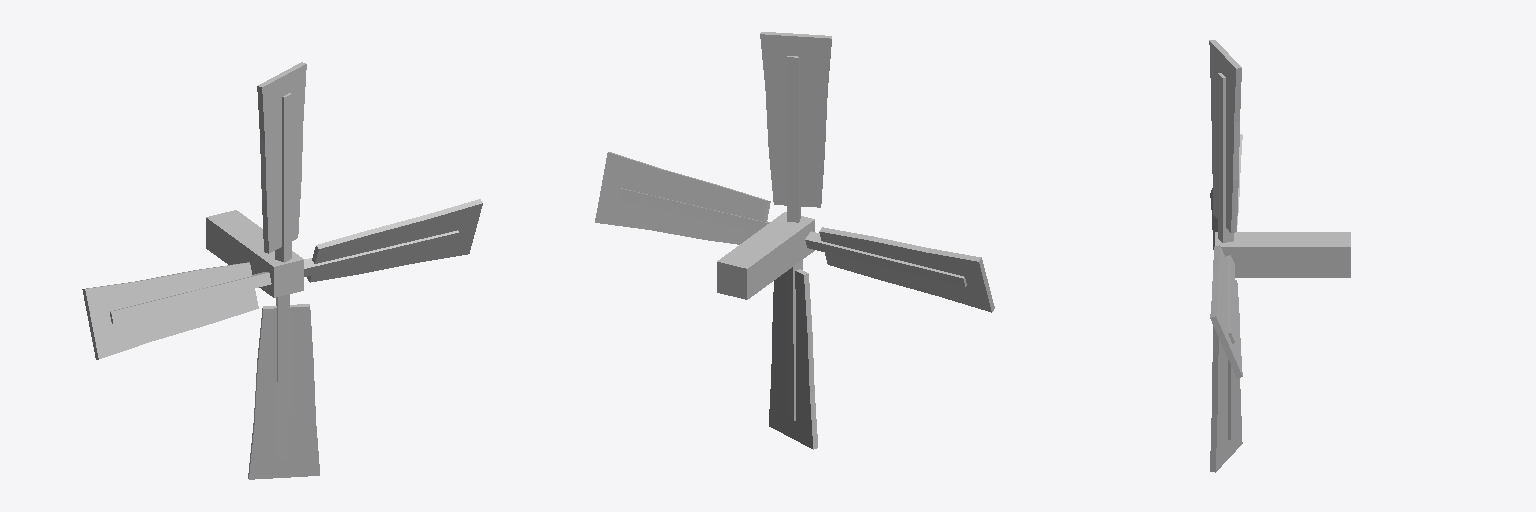
File: windmillWings.obj
3 renders of one model, left to right at view 1: azimuth 30°, elevation 25°; view 2: azimuth 150°, elevation 25°; view 3: azimuth 270°, elevation 25°, orthographic.
Parts seen in each view (by area): view 1: wings_Cube.002; view 2: wings_Cube.002; view 3: wings_Cube.002.
Boxes of the visible parts, <box> form: wings_Cube.002: <box>82,62,482,479</box>; wings_Cube.002: <box>595,32,994,449</box>; wings_Cube.002: <box>1209,40,1350,472</box>.
Bounding box in the file's own units: 3.76 × 3.76 × 1.2.